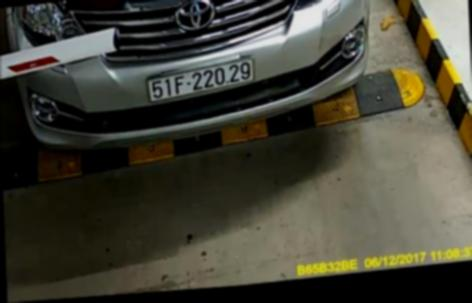License_Plate: (137, 55, 261, 112)
